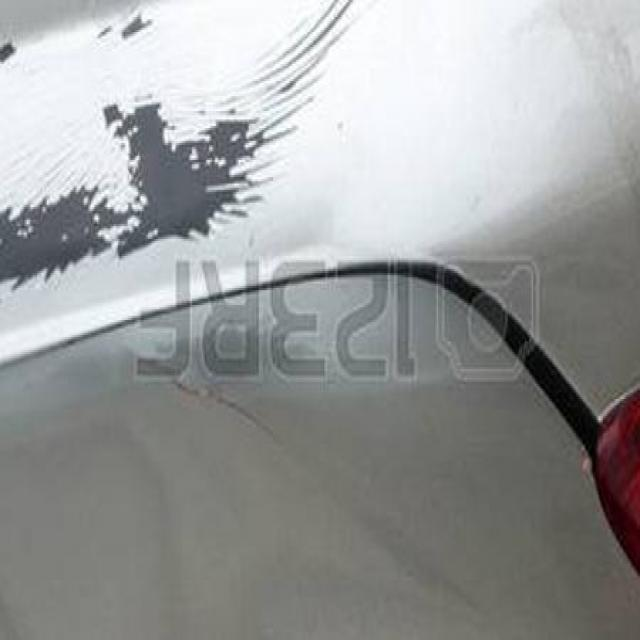scratch: (0, 4, 367, 305)
